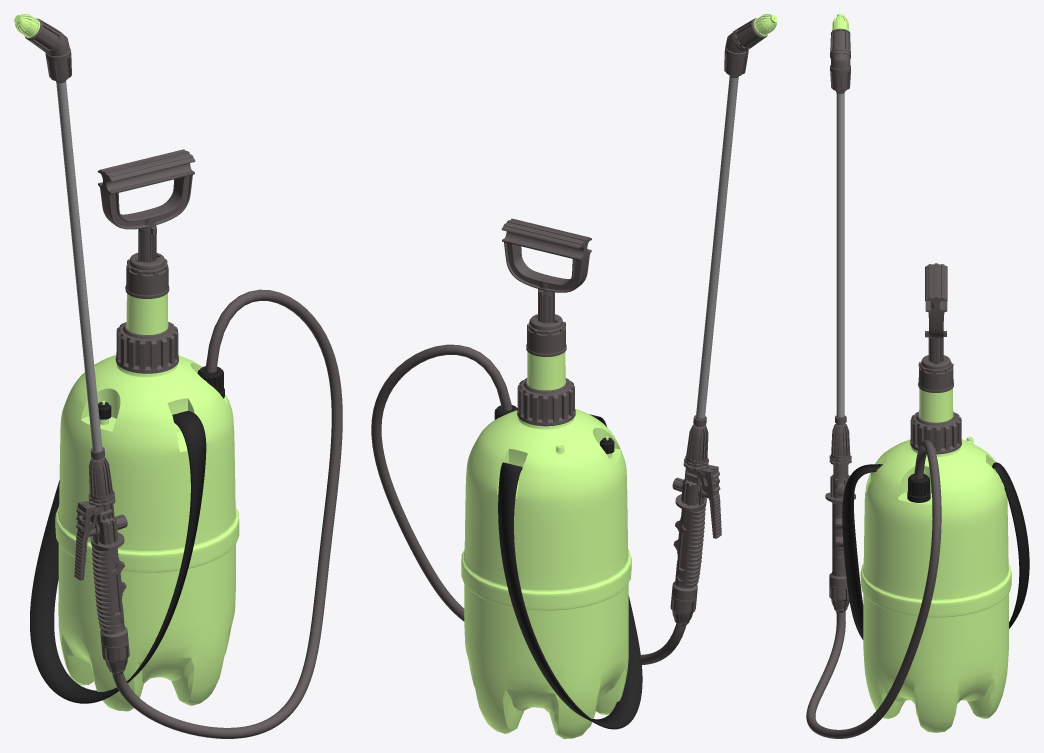
Rendered from pulverisateur.glb.
3 views of the same model, side by side, from view 1: azimuth 30°, elevation 25°; view 2: azimuth 150°, elevation 25°; view 3: azimuth 270°, elevation 25° (orthographic). The views are drawn at different scales.
Visible parts, largest first — view 1: Circle_Material.001_0, Circle_Material.002_0, Circle_Material.006_0, Cylinder.003_Material.005_0; view 2: Circle_Material.001_0, Circle_Material.002_0, Circle_Material.006_0, Cylinder.003_Material.005_0; view 3: Circle_Material.001_0, Circle_Material.002_0, Circle_Material.006_0, Cylinder.003_Material.005_0.
Part boxes in pixels (x1,y1,x2,y2): Circle_Material.001_0: [14, 14, 239, 711]; Circle_Material.002_0: [25, 18, 342, 738]; Circle_Material.006_0: [30, 366, 224, 703]; Cylinder.003_Material.005_0: [56, 81, 102, 451]; Circle_Material.001_0: [461, 14, 777, 738]; Circle_Material.002_0: [371, 18, 767, 664]; Circle_Material.006_0: [494, 405, 642, 729]; Cylinder.003_Material.005_0: [696, 76, 738, 418]; Circle_Material.001_0: [832, 14, 1011, 732]; Circle_Material.002_0: [806, 29, 961, 738]; Circle_Material.006_0: [842, 462, 1029, 639]; Cylinder.003_Material.005_0: [836, 93, 844, 417].
Bounding box in the file's own units: 0.5254 × 1 × 0.3249.
